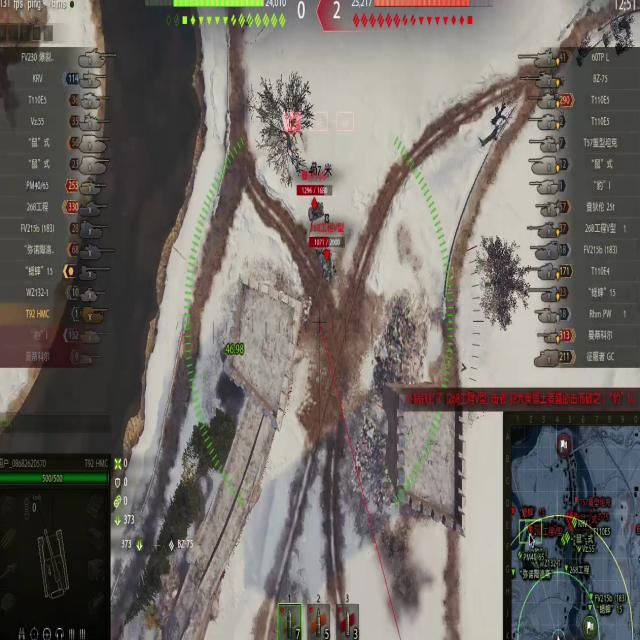tank: (306, 230, 356, 290), (295, 180, 337, 224)
